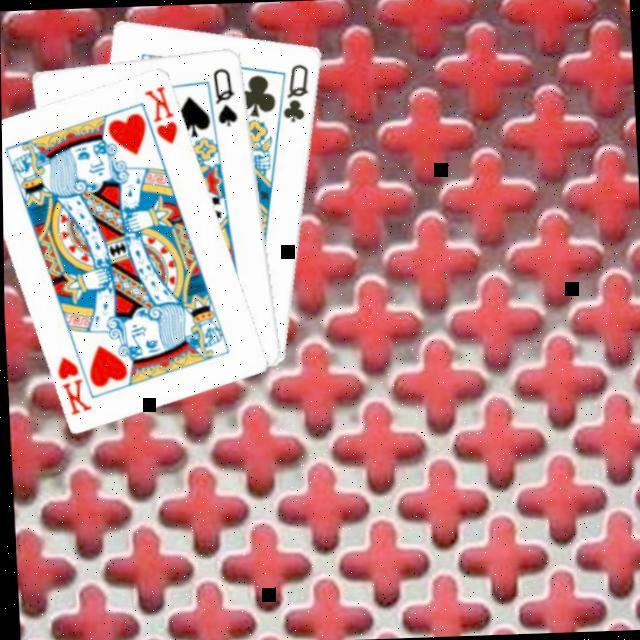KH: (140, 82, 180, 149), (52, 354, 92, 418)
QC: (276, 62, 312, 126)
QS: (208, 66, 240, 130)
